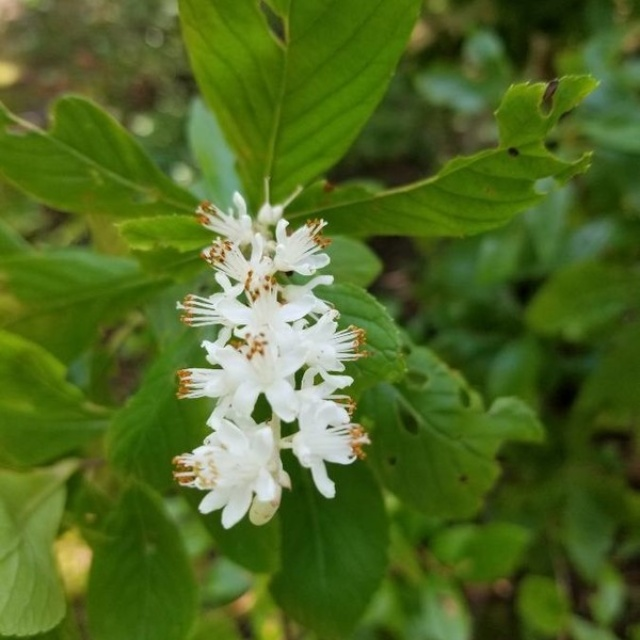obstacle: (84, 34, 498, 556)
